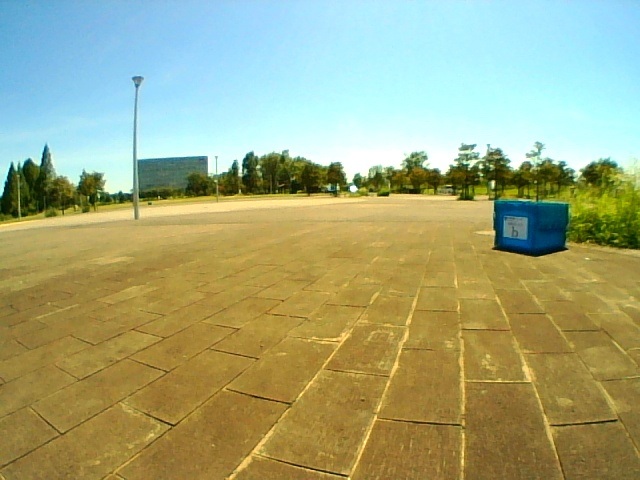blue_box: (495, 202, 567, 252)
tag_b: (505, 218, 527, 239)
